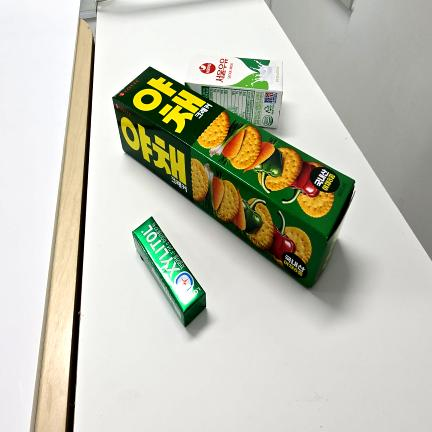cracker_vege: (112, 66, 355, 289)
gum_green: (133, 217, 206, 326)
milk_green: (185, 55, 283, 128)
